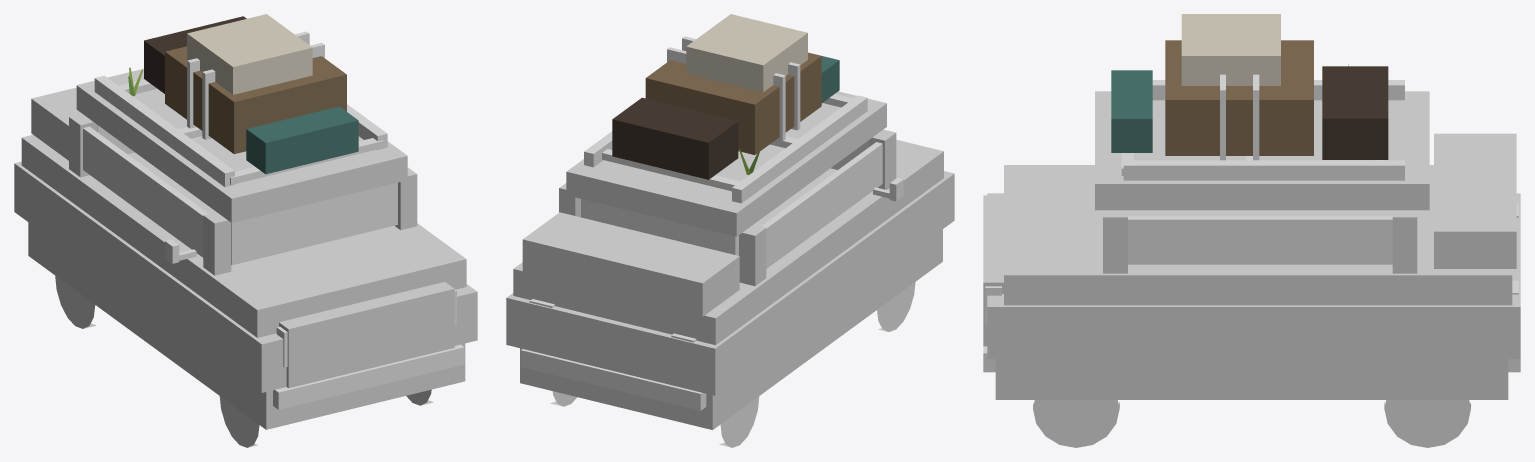
The model's file is microcar.glb.
The picture shows the model from 3 angles, left to right: view 1: azimuth 30°, elevation 25°; view 2: azimuth 150°, elevation 25°; view 3: azimuth 270°, elevation 25°; orthographic projection. The views are drawn at different scales.
Visible parts, largest first — view 1: Body_Waist, Body_Tub, Body_Roof, Body_Sill, Body_Nose, Luggage_Case, Windscreen, Luggage_CaseSmall, SideGlassL, Luggage_Roll, Bumper_Front_Grey, Rack_RailL_Grey (+11 smaller); view 2: Body_Tub, Body_Waist, Body_Tail, Body_Roof, Body_Sill, Luggage_Case, Luggage_Crate, Luggage_CaseSmall, SideGlassL, Bumper_Rear_Grey, Rack_RailL_Grey, RearGlass (+10 smaller); view 3: Body_Waist, Body_Tub, Body_Sill, Body_Roof, SideGlassR, Luggage_Case, Body_Tail, Luggage_CaseSmall, Luggage_Crate, Rack_RailR_Grey, Luggage_Roll, FrontRightWheel (+6 smaller).
Part boxes in pixels (box(x1,y1,x2,y2)): Body_Waist: box(21, 135, 466, 337); Body_Tub: box(14, 161, 477, 392); Body_Roof: box(76, 68, 407, 222); Body_Sill: box(28, 222, 465, 429); Body_Nose: box(279, 282, 454, 388); Luggage_Case: box(165, 46, 346, 154); Windscreen: box(231, 182, 397, 265); Luggage_CaseSmall: box(187, 14, 312, 94); SideGlassL: box(83, 126, 208, 257); Luggage_Roll: box(246, 106, 358, 174); Bumper_Front_Grey: box(273, 344, 464, 409); Rack_RailL_Grey: box(94, 75, 234, 187); Body_Tub: box(506, 171, 954, 395); Body_Waist: box(513, 139, 943, 345); Body_Tail: box(522, 212, 739, 316); Body_Roof: box(566, 91, 886, 236); Body_Sill: box(520, 229, 942, 429); Luggage_Case: box(645, 49, 821, 154); Luggage_Crate: box(612, 97, 738, 179); Luggage_CaseSmall: box(686, 14, 807, 92); SideGlassL: box(761, 142, 882, 268); Bumper_Rear_Grey: box(520, 349, 706, 410); Rack_RailL_Grey: box(732, 95, 867, 203); RearGlass: box(581, 199, 738, 255); Body_Waist: box(1004, 165, 1512, 305); Body_Tub: box(987, 193, 1520, 359); Body_Sill: box(995, 359, 1508, 399); Body_Roof: box(1095, 91, 1429, 210); SideGlassR: box(1128, 216, 1392, 264); Luggage_Case: box(1165, 40, 1313, 155); Body_Tail: box(1434, 133, 1516, 268); Luggage_CaseSmall: box(1181, 14, 1280, 85); Luggage_Crate: box(1322, 66, 1388, 159); Rack_RailR_Grey: box(1123, 160, 1404, 180); Luggage_Roll: box(1111, 70, 1152, 152); FrontRightWheel: box(1033, 400, 1119, 447).
Bounding box in the file's own units: 1.41 × 1.91 × 2.6.
